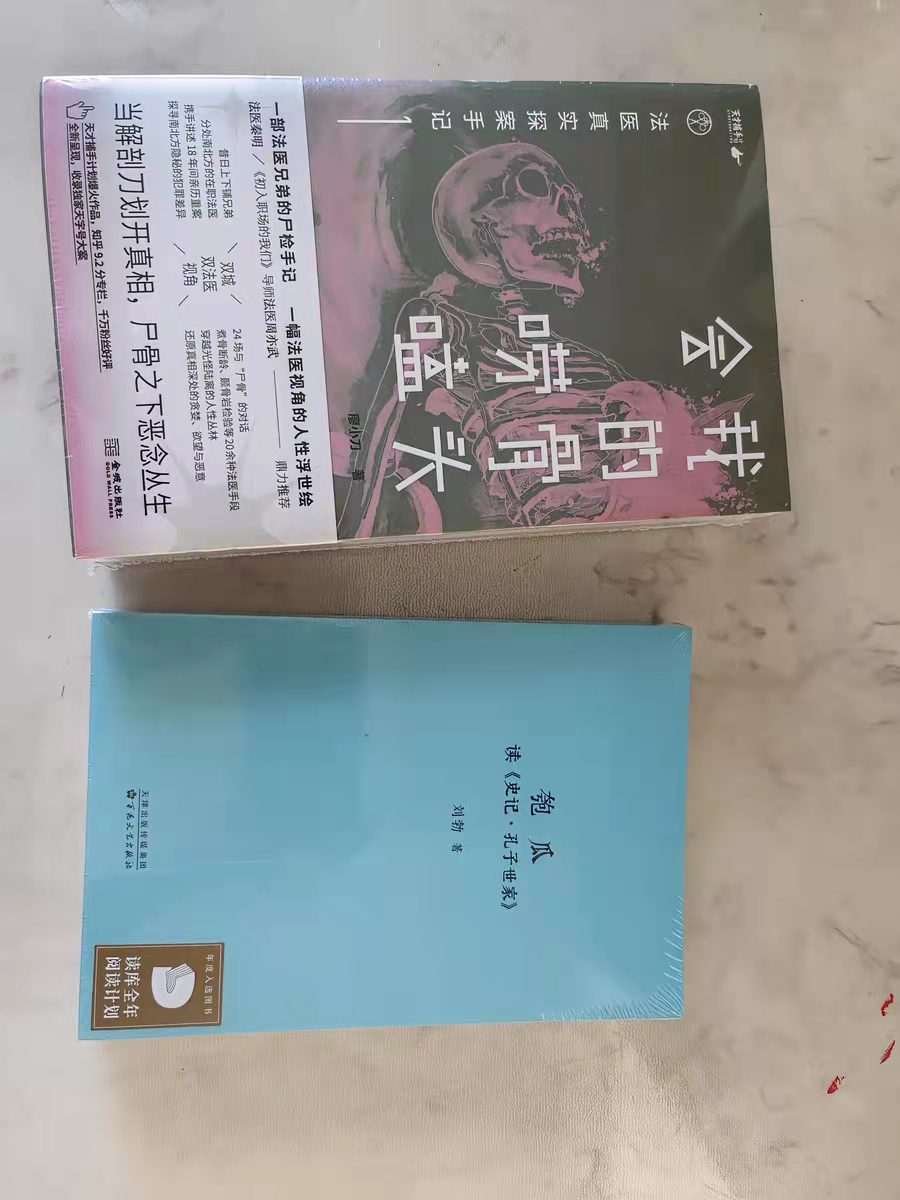book: (37, 65, 801, 560), (79, 607, 695, 1029)
